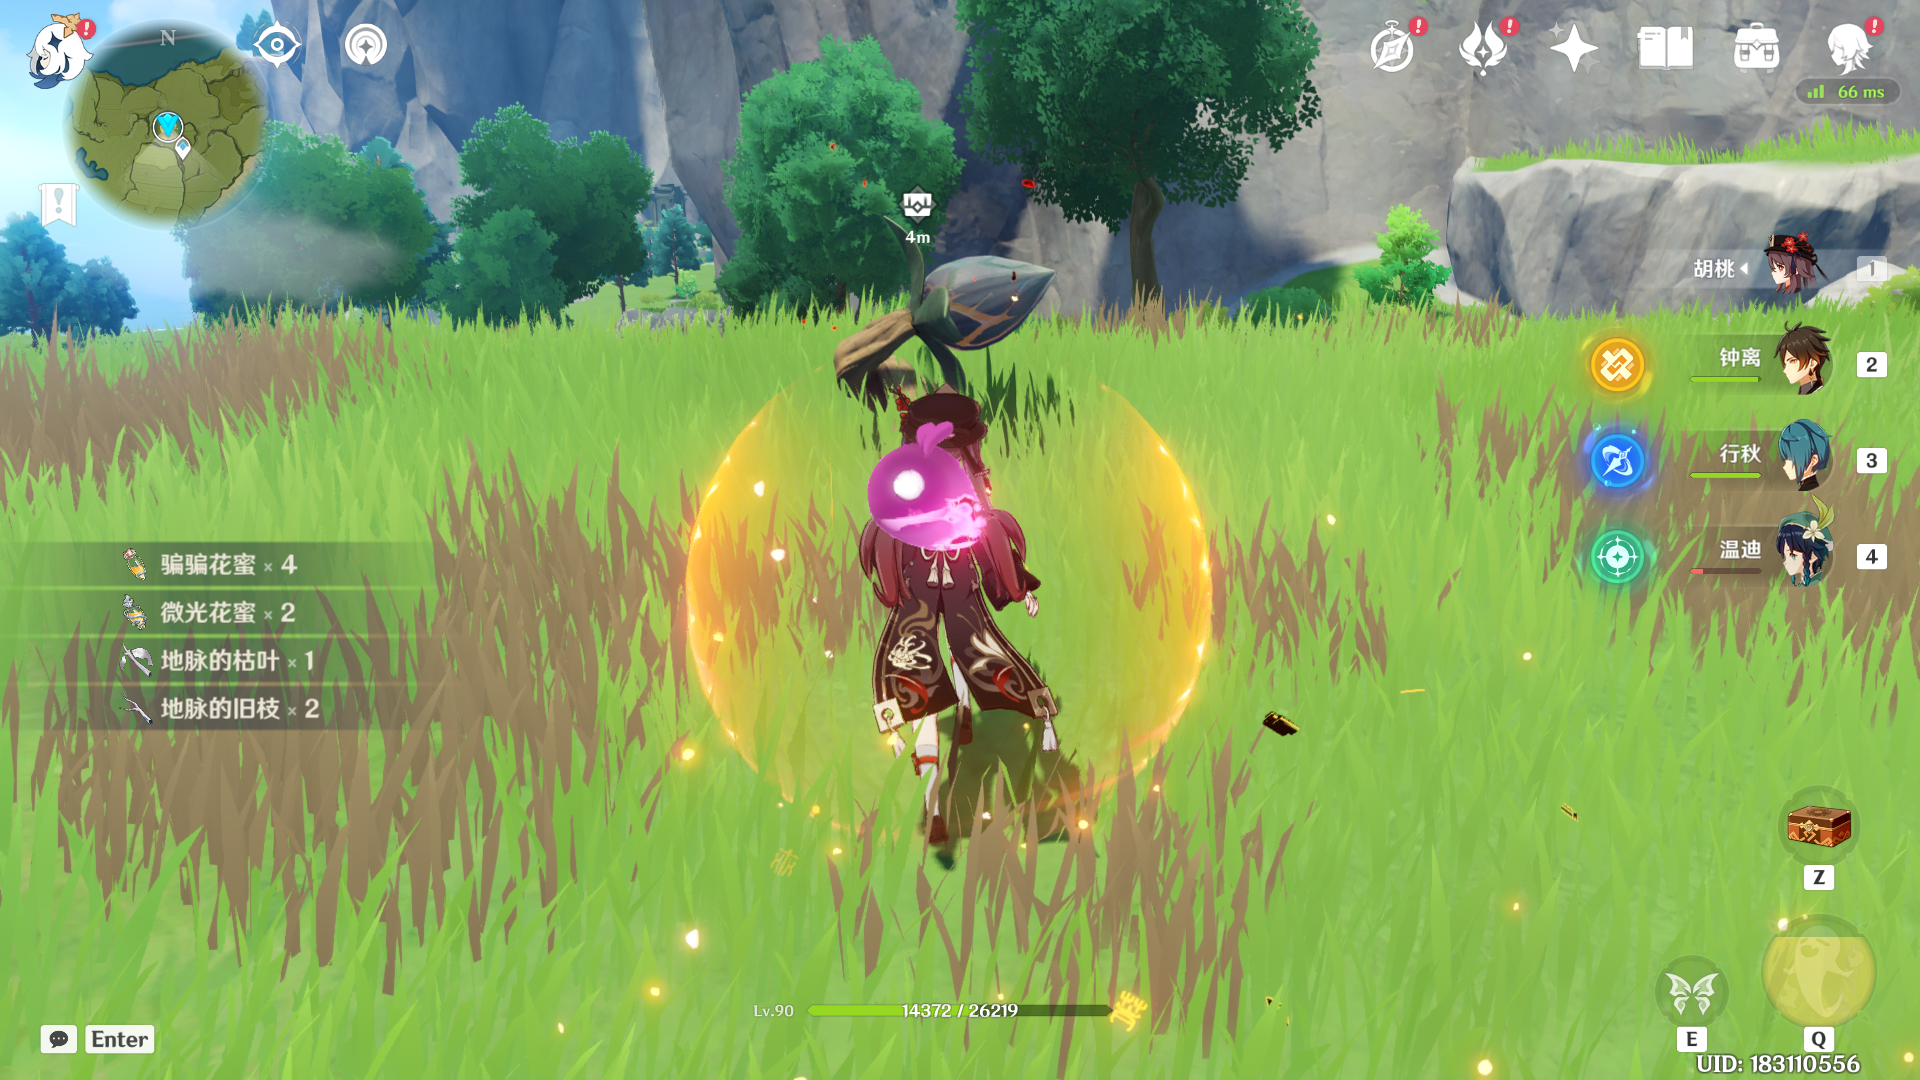character: (787, 338, 1135, 866)
